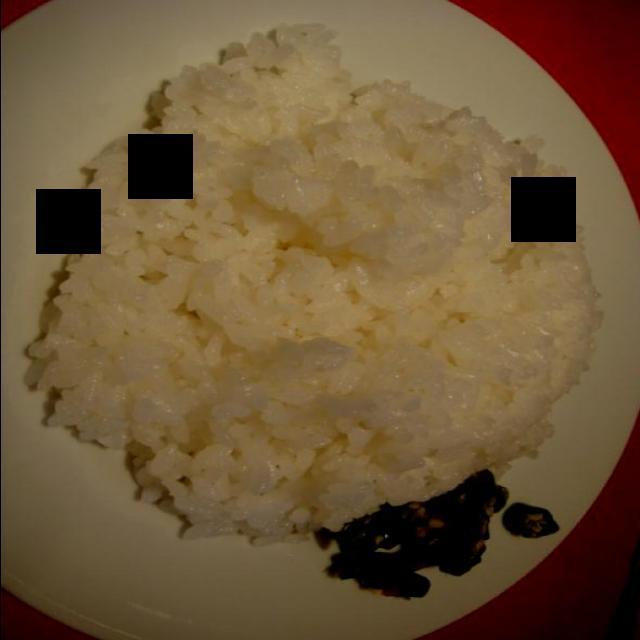rice: (23, 24, 605, 542)
